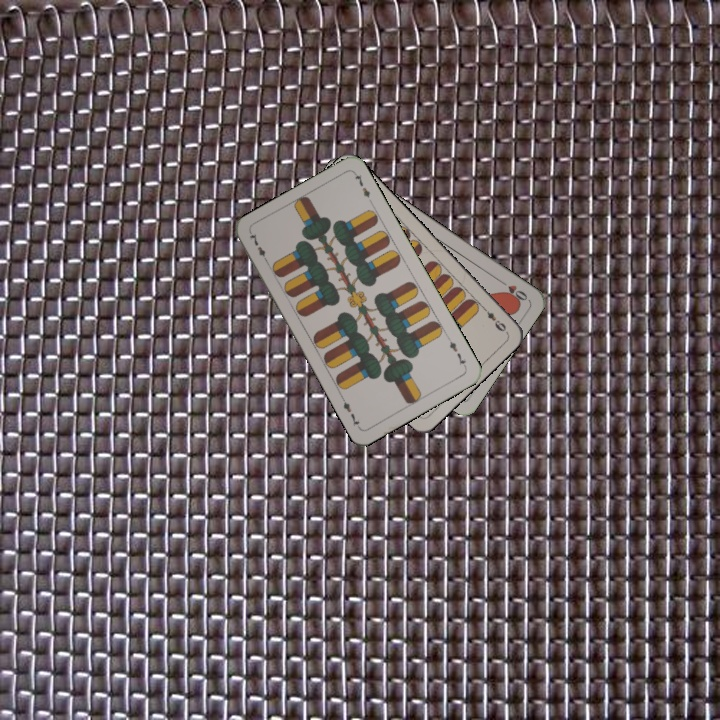E7: (246, 229, 271, 266), (445, 337, 469, 370)
E9: (478, 302, 509, 334)
HO: (494, 275, 530, 304)
